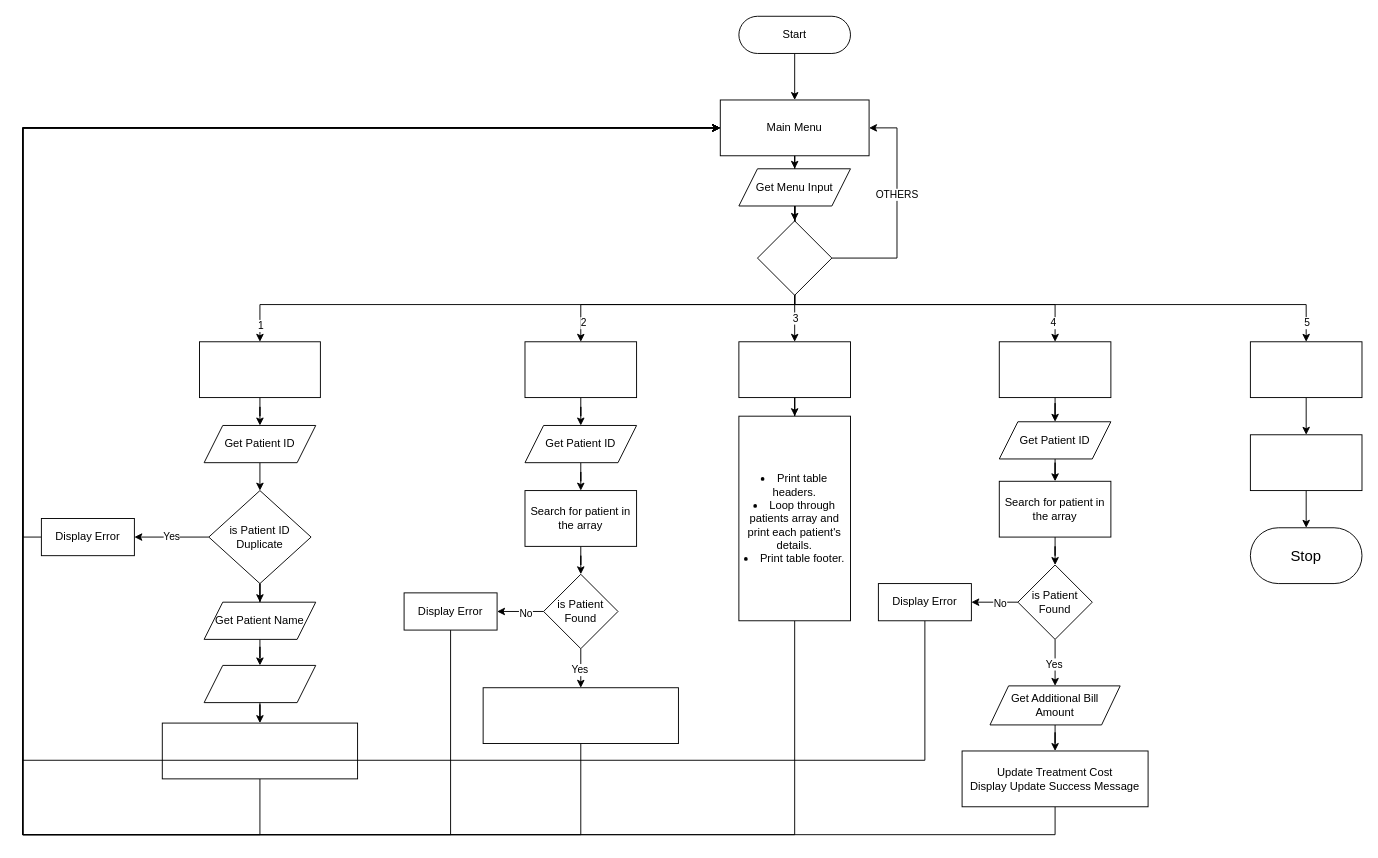
The diagram is 1378 pixels wide and 858 high, and some of its shapes have lost their labels. The shapes that lost their labels are listed below. From the top down, each one's centre as x and y in pixels, then its label:
At (794,257): "Check Option".
At (259,369): "1: Add New Patient".
At (580,369): "2: Delete Patient".
At (794,369): "3: Display All Patients".
At (1054,369): "4: Add Additional Bill".
At (1305,369): "5: Exit".
At (1305,462): "Display exit message and terminate the program.".
At (259,683): "Get Treatment Cost".
At (580,715): "Delete Patient Decrement Patient Count Display Delete Success Message".
At (259,750): "Add Patient to Array Increment Patient Count Display Success Message".
